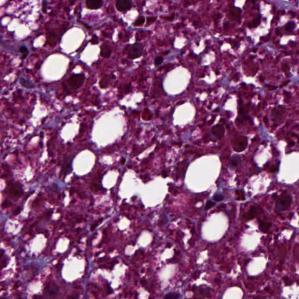steatosis: (161, 63, 194, 100)
